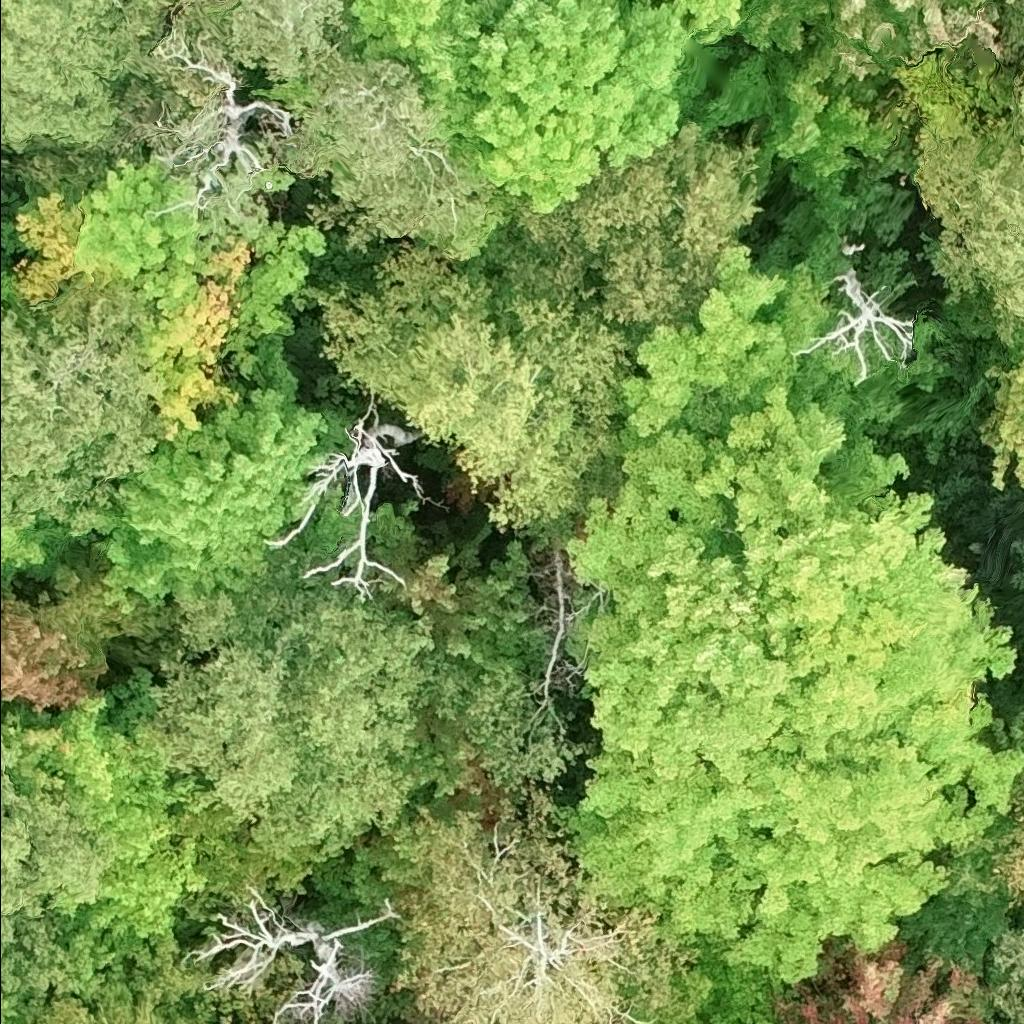crown: (569, 251, 1023, 985), (318, 202, 654, 551), (137, 539, 473, 857), (13, 153, 328, 443), (383, 777, 715, 1023), (349, 0, 687, 212), (104, 337, 356, 612), (516, 109, 759, 330), (275, 48, 500, 255), (0, 287, 165, 531), (0, 740, 110, 1006), (0, 560, 175, 716), (196, 884, 376, 1023), (277, 421, 411, 603), (777, 936, 997, 1023), (159, 0, 365, 81), (791, 266, 921, 385), (34, 967, 218, 1023), (645, 0, 742, 46), (989, 782, 1023, 909), (0, 273, 63, 328), (0, 519, 55, 570), (996, 928, 1023, 1023)
